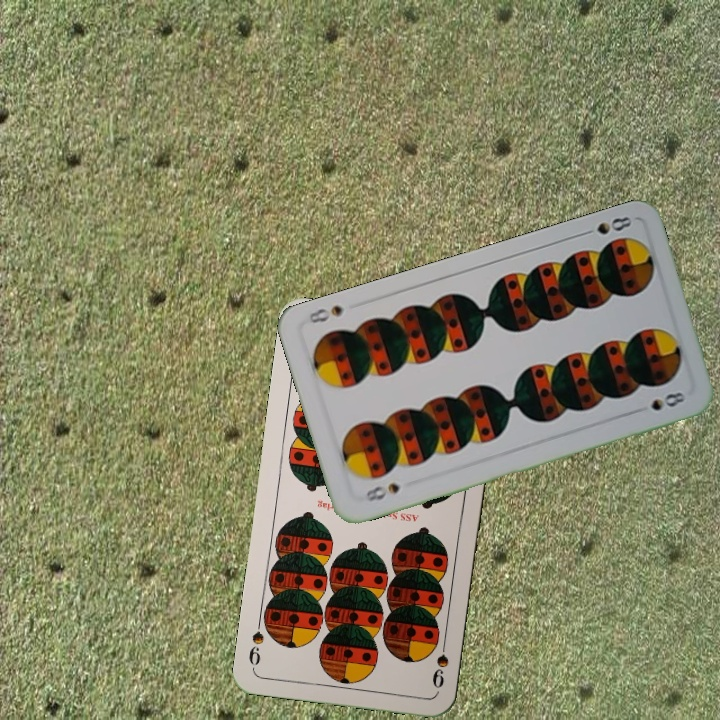S8: (577, 212, 635, 239), (361, 478, 402, 504)
S9: (428, 633, 451, 691)
